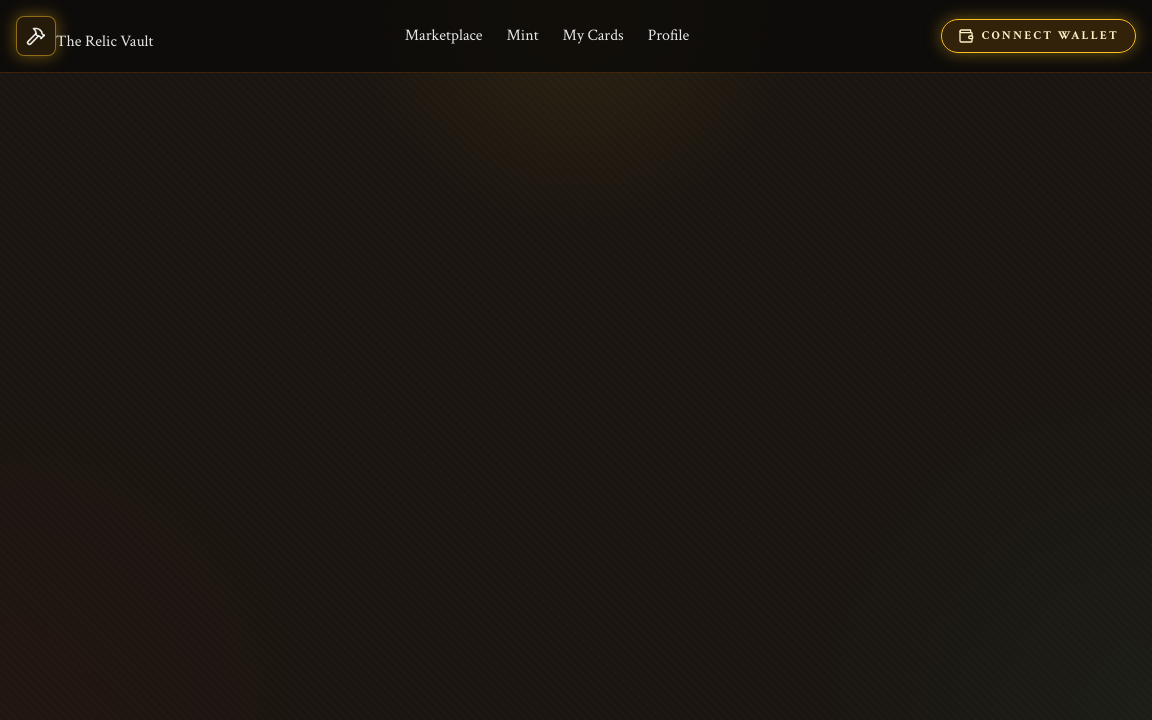
Test: The Relic Vault frontend › renders the connect wallet button and transitions state
Click the button "Connect Wallet". click: x=1038, y=36
box: [941,19,1136,53]
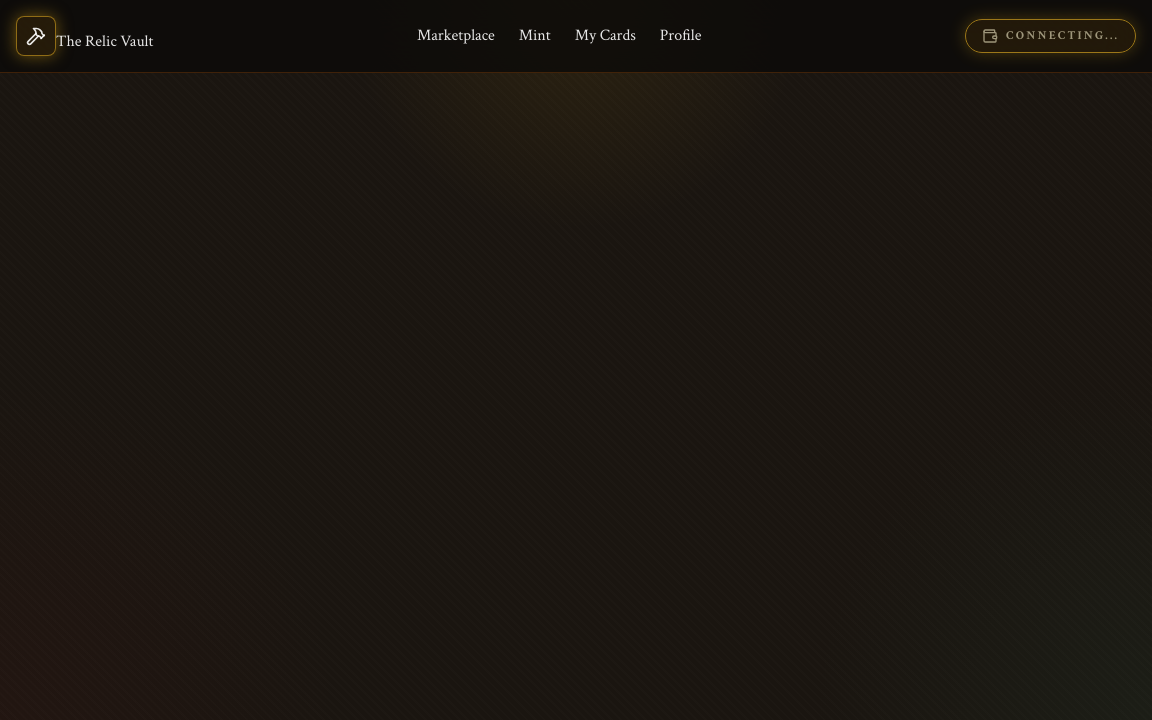
Now the button "Connecting..." is disabled, box [965,19,1136,53]
